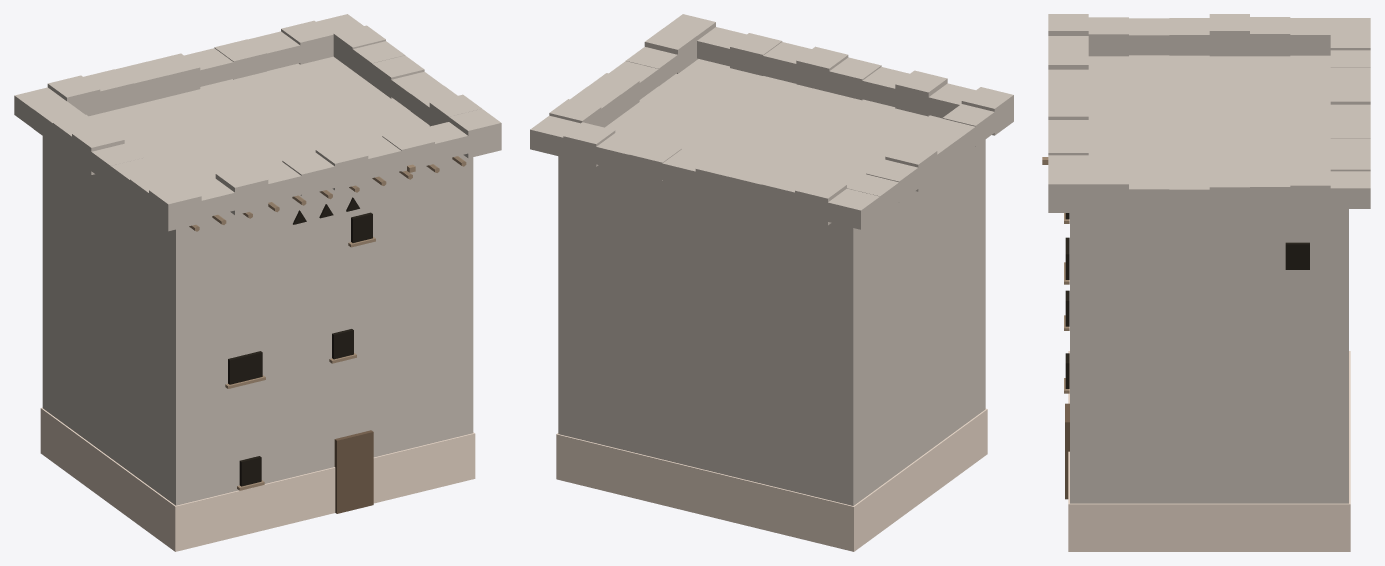
File: SM_AlUlaHouse_B.fbx
The picture shows the model from 3 angles, left to right: view 1: azimuth 30°, elevation 25°; view 2: azimuth 150°, elevation 25°; view 3: azimuth 270°, elevation 25°; orthographic projection. The views are drawn at different scales.
Visible parts, largest first — view 1: SM_AlUlaHouse_B; view 2: SM_AlUlaHouse_B; view 3: SM_AlUlaHouse_B.
Boxes of the visible parts, x1=… form: SM_AlUlaHouse_B: x1=14, y1=14, x2=501, y2=551; SM_AlUlaHouse_B: x1=530, y1=14, x2=1013, y2=551; SM_AlUlaHouse_B: x1=1042, y1=14, x2=1370, y2=551.
Bounding box in the file's own units: 1000 × 1030 × 815.
